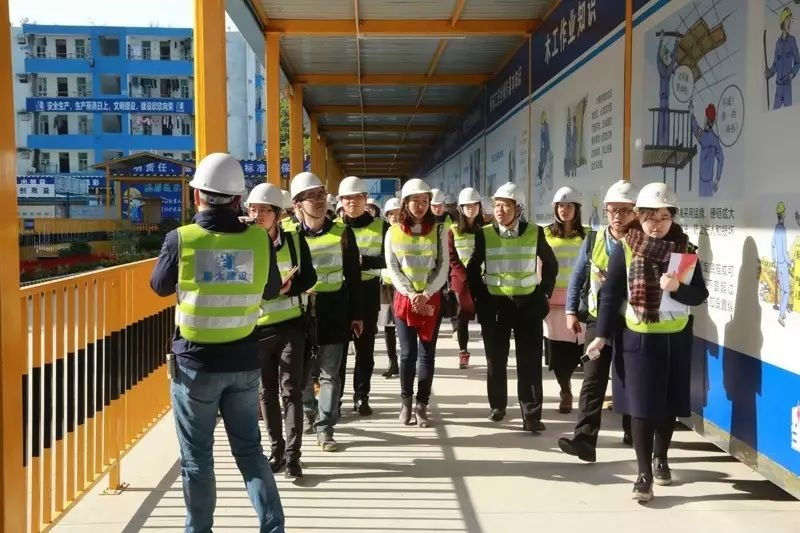white: (189, 153, 246, 219), (636, 181, 679, 239), (289, 172, 328, 223), (246, 182, 284, 231), (603, 178, 636, 232), (491, 182, 524, 225), (337, 175, 368, 218), (401, 177, 430, 220), (552, 186, 582, 225), (457, 187, 483, 221), (383, 196, 403, 224), (429, 186, 445, 216), (362, 197, 380, 218), (443, 193, 459, 215)
